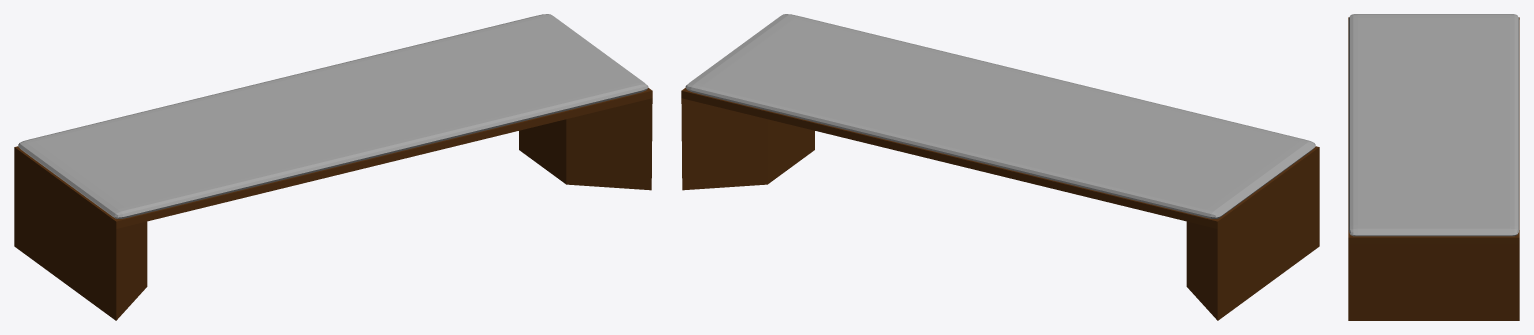
Rendered from ModernBench2.fbx.
The picture shows the model from 3 angles, left to right: view 1: azimuth 30°, elevation 25°; view 2: azimuth 150°, elevation 25°; view 3: azimuth 270°, elevation 25°; orthographic projection. The views are drawn at different scales.
Visible parts, largest first — view 1: Cube.002, Cube.001; view 2: Cube.002, Cube.001; view 3: Cube.002, Cube.001.
Part boxes in pixels (x1=…): Cube.002: x1=18, y1=14, x2=648, y2=218; Cube.001: x1=14, y1=87, x2=652, y2=320; Cube.002: x1=685, y1=14, x2=1315, y2=218; Cube.001: x1=681, y1=87, x2=1319, y2=320; Cube.002: x1=1348, y1=14, x2=1519, y2=236; Cube.001: x1=1348, y1=17, x2=1519, y2=320.
Size of the model in its own units: 609 by 115 by 200.
